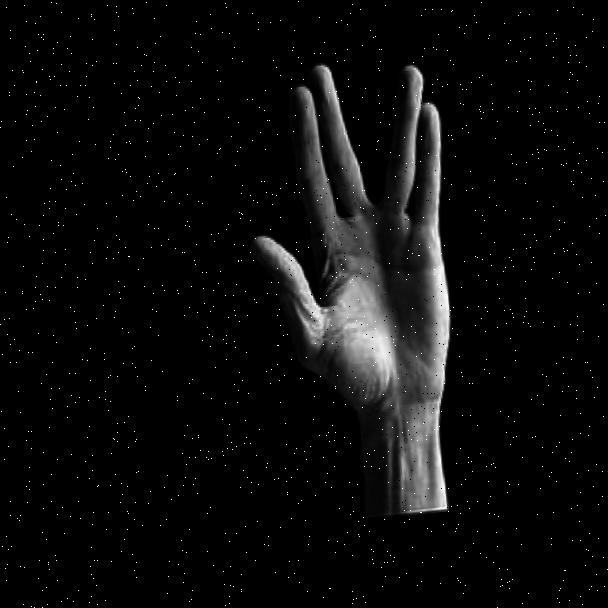five: (222, 32, 490, 456)
